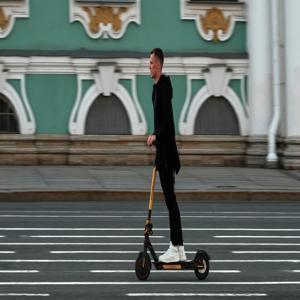human on a scooter: (134, 47, 210, 281)
